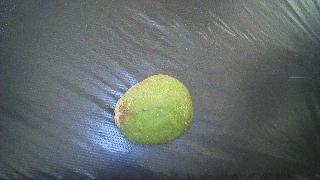DESECHO: (114, 74, 193, 145)
